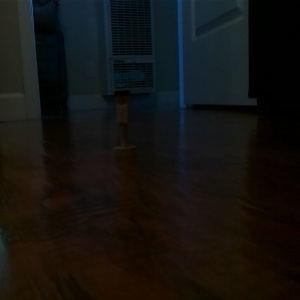traffic light red: (110, 86, 136, 160)
